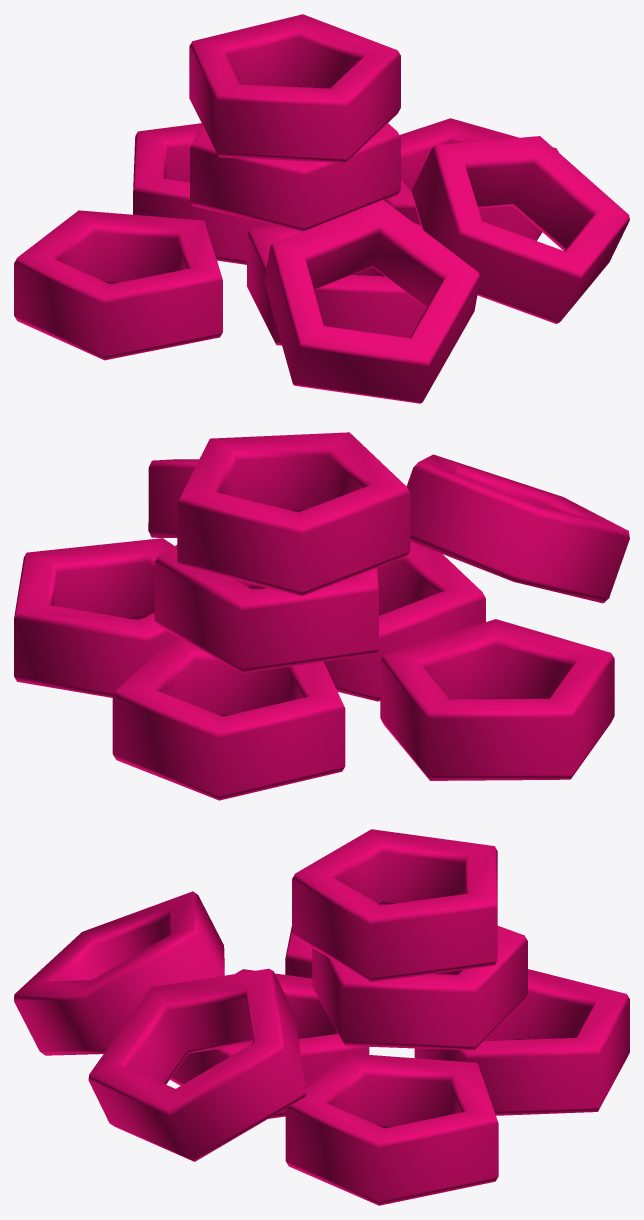
Rendered from Tire_Pile_01_Lod2.fbx.
3 views of the same model, one above another, from view 1: azimuth 30°, elevation 25°; view 2: azimuth 150°, elevation 25°; view 3: azimuth 270°, elevation 25° (orthographic). The views are drawn at different scales.
Parts seen in each view (by area): view 1: Tire_Pile_01_Lod2; view 2: Tire_Pile_01_Lod2; view 3: Tire_Pile_01_Lod2.
Boxes of the visible parts, x1=… form: Tire_Pile_01_Lod2: x1=14, y1=14, x2=629, y2=403; Tire_Pile_01_Lod2: x1=14, y1=432, x2=629, y2=800; Tire_Pile_01_Lod2: x1=14, y1=829, x2=629, y2=1205.
Size of the model in its own units: 209 by 77.88 by 210.
